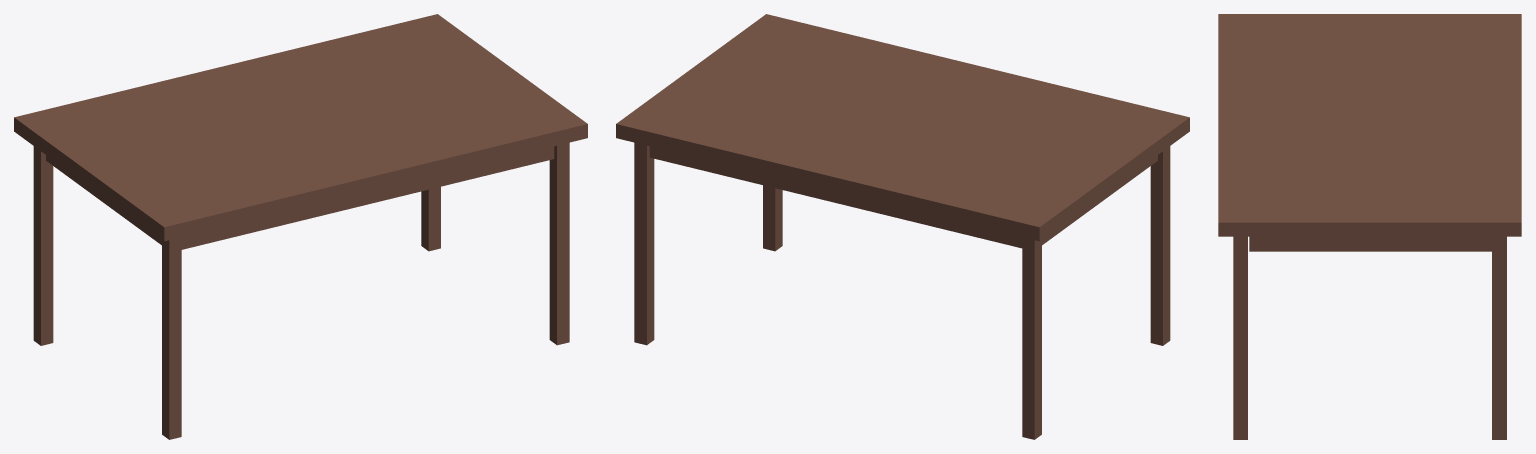
The model's file is Table.glb.
3 renders of one model, left to right at view 1: azimuth 30°, elevation 25°; view 2: azimuth 150°, elevation 25°; view 3: azimuth 270°, elevation 25°, orthographic.
Parts seen in each view (by area): view 1: Table; view 2: Table; view 3: Table.
Part boxes in pixels (<box>): Table: <box>14,14,587,439</box>; Table: <box>616,14,1189,439</box>; Table: <box>1218,14,1521,439</box>.
Size of the model in its own units: 2.07 by 1.03 by 1.27.
